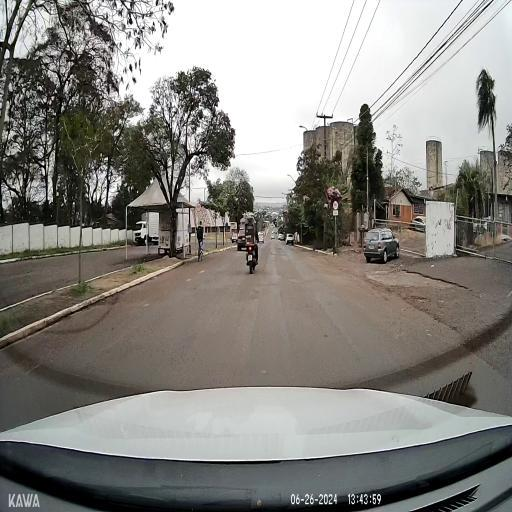R-19: (333, 200, 338, 211), (196, 203, 201, 212)
